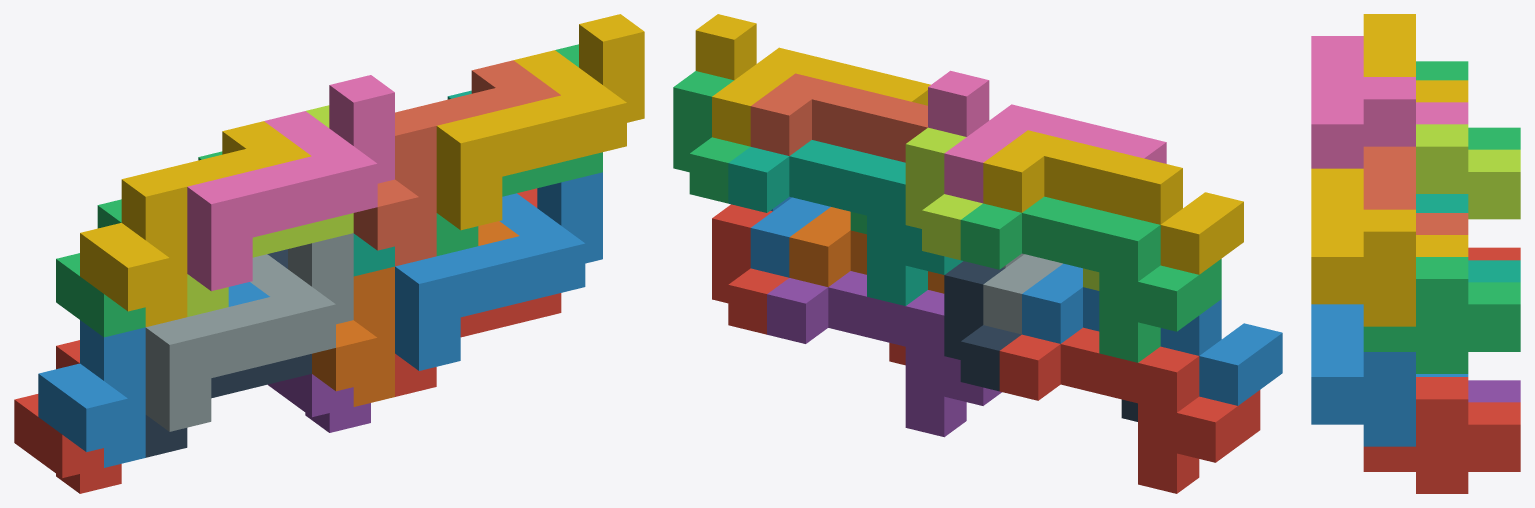
File: tiling.obj
3 views of the same model, side by side, from view 1: azimuth 30°, elevation 25°; view 2: azimuth 150°, elevation 25°; view 3: azimuth 270°, elevation 25° (orthographic). The views are drawn at different scales.
Parts seen in each view (by area): view 1: copy_2_domain_8, copy_2_domain_4, copy_2_domain_2, copy_2_domain_6, copy_1_domain_4, copy_1_domain_8, copy_1_domain_2, copy_1_domain_6, copy_1_domain_1, copy_1_domain_3, copy_2_domain_7, copy_2_domain_3 (+4 smaller); view 2: copy_1_domain_3, copy_1_domain_1, copy_1_domain_4, copy_1_domain_7, copy_1_domain_5, copy_1_domain_2, copy_1_domain_8, copy_2_domain_4, copy_2_domain_8, copy_2_domain_3, copy_2_domain_7, copy_2_domain_1 (+4 smaller); view 3: copy_2_domain_8, copy_2_domain_4, copy_2_domain_6, copy_2_domain_5, copy_2_domain_7, copy_2_domain_3, copy_1_domain_4, copy_1_domain_8, copy_1_domain_3, copy_1_domain_7, copy_1_domain_5, copy_1_domain_1.
Part boxes in pixels (<box>): copy_2_domain_8: <box>436,14,644,230</box>; copy_2_domain_4: <box>187,75,394,291</box>; copy_2_domain_2: <box>145,233,353,431</box>; copy_2_domain_6: <box>395,172,602,370</box>; copy_1_domain_4: <box>80,121,311,326</box>; copy_1_domain_8: <box>353,60,560,266</box>; copy_1_domain_2: <box>38,282,269,467</box>; copy_1_domain_6: <box>312,221,519,406</box>; copy_1_domain_1: <box>14,340,121,493</box>; copy_1_domain_3: <box>56,151,222,337</box>; copy_2_domain_7: <box>436,44,602,255</box>; copy_2_domain_3: <box>187,105,353,316</box>; copy_1_domain_3: <box>960,196,1221,362</box>; copy_1_domain_1: <box>999,327,1260,493</box>; copy_1_domain_4: <box>983,130,1243,274</box>; copy_1_domain_7: <box>728,140,962,305</box>; copy_1_domain_5: <box>767,271,1001,437</box>; copy_1_domain_2: <box>1022,263,1282,405</box>; copy_1_domain_8: <box>750,73,927,162</box>; copy_2_domain_4: <box>928,70,1166,203</box>; copy_2_domain_8: <box>695,14,930,146</box>; copy_2_domain_3: <box>905,127,1099,290</box>; copy_2_domain_7: <box>673,71,866,234</box>; copy_2_domain_1: <box>944,261,1137,421</box>; copy_2_domain_8: <box>1311,168,1468,326</box>; copy_2_domain_4: <box>1311,36,1468,168</box>; copy_2_domain_6: <box>1311,304,1468,446</box>; copy_2_domain_5: <box>1363,377,1520,493</box>; copy_2_domain_7: <box>1363,257,1520,373</box>; copy_2_domain_3: <box>1416,124,1520,219</box>; copy_1_domain_4: <box>1363,14,1468,102</box>; copy_1_domain_8: <box>1363,146,1468,234</box>; copy_1_domain_3: <box>1416,61,1520,149</box>; copy_1_domain_7: <box>1416,194,1520,282</box>; copy_1_domain_5: <box>1468,380,1520,402</box>; copy_1_domain_1: <box>1468,247,1520,260</box>.
Bounding box in the file's own units: 14 × 8 × 4.
